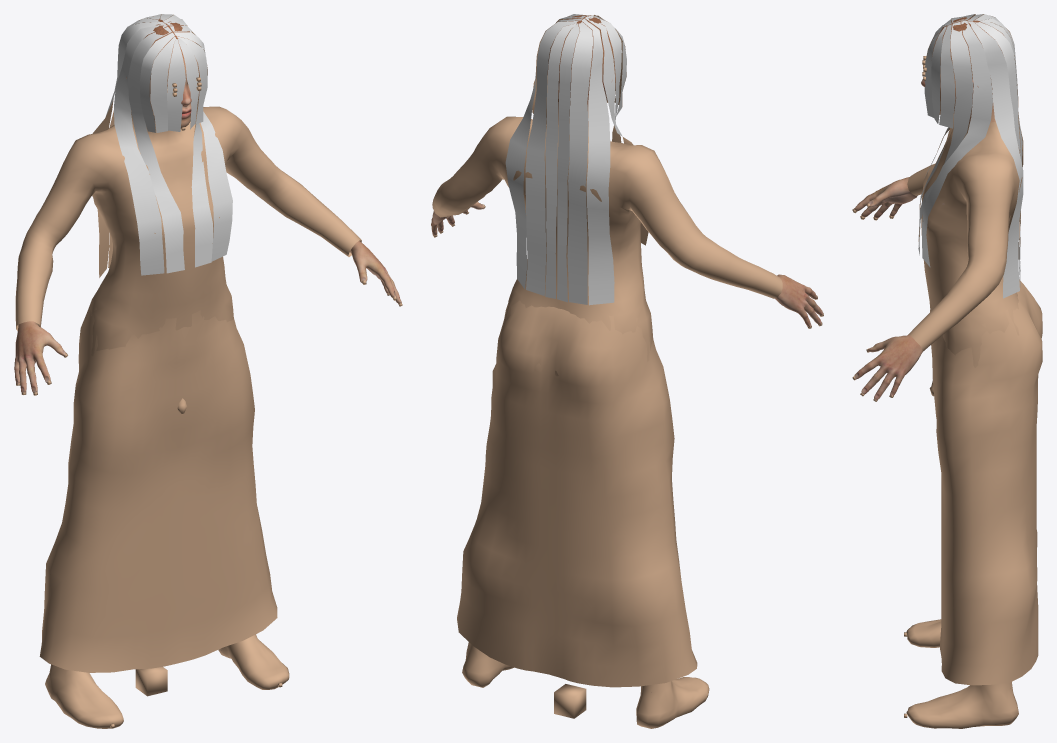
File: _kabuk_deneme.glb
The picture shows the model from 3 angles, left to right: view 1: azimuth 30°, elevation 25°; view 2: azimuth 150°, elevation 25°; view 3: azimuth 270°, elevation 25°; orthographic projection.
Visible parts, largest first — view 1: beden, kabuk; view 2: beden, kabuk; view 3: beden, kabuk.
Part boxes in pixels (bbox=[...]): beden: bbox=[14, 14, 402, 728]; kabuk: bbox=[99, 14, 232, 275]; beden: bbox=[431, 15, 823, 728]; kabuk: bbox=[505, 14, 626, 305]; beden: bbox=[852, 14, 1042, 728]; kabuk: bbox=[918, 14, 1023, 298].
Bounding box in the file's own units: 0.9946 × 1.69 × 0.436.
1 material, 1 textured.
